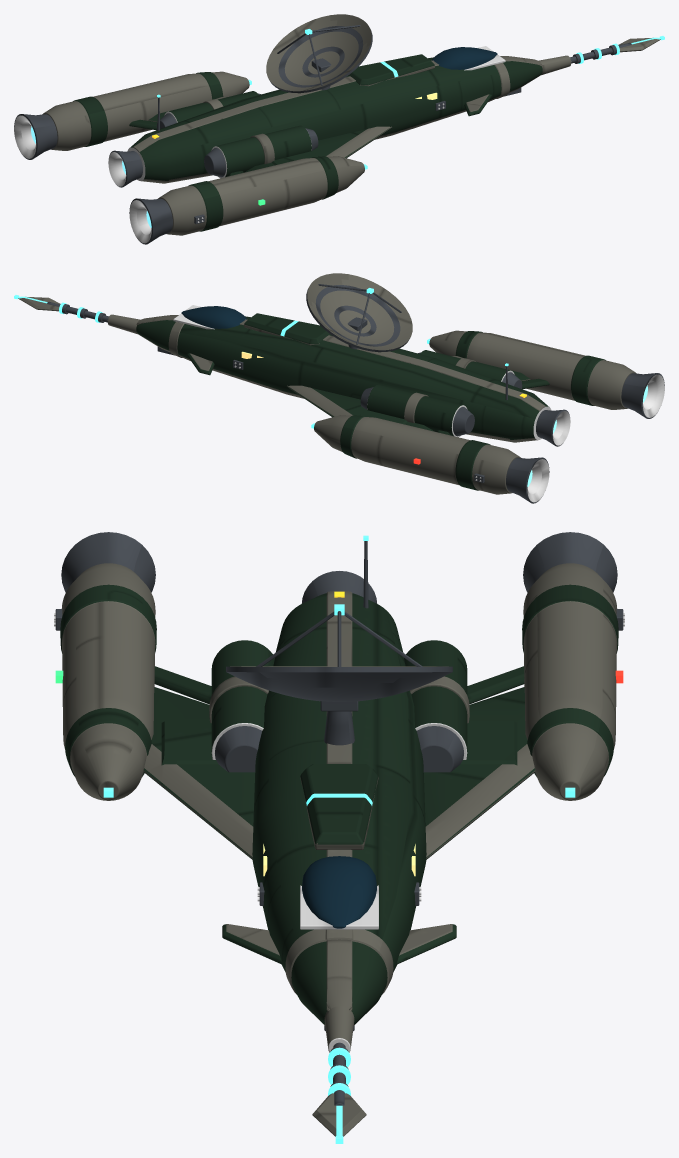
The model's file is ranger_production_v1.glb.
3 views of the same model, one above another, from view 1: azimuth 30°, elevation 25°; view 2: azimuth 150°, elevation 25°; view 3: azimuth 270°, elevation 25° (orthographic). The views are drawn at different scales.
Visible parts, largest first — view 1: LOD0_Hull, LOD0_Armor, LOD0_HOOK_SENSOR_DISH_Armor, LOD0_Mechanical, LOD0_MechanicalDark, LOD0_HOOK_SENSOR_DISH_Mechanical, LOD0_CANOPY, LOD0_HOOK_SECONDARY_TANK_Hull, LOD0_Lights_Cyan; view 2: LOD0_Hull, LOD0_Armor, LOD0_HOOK_SENSOR_DISH_Armor, LOD0_Mechanical, LOD0_HOOK_SECONDARY_TANK_Hull, LOD0_MechanicalDark, LOD0_HOOK_SENSOR_DISH_Mechanical, LOD0_CANOPY, LOD0_HOOK_SECONDARY_TANK_Mechanical, LOD0_Lights_Cyan; view 3: LOD0_Hull, LOD0_Armor, LOD0_Mechanical, LOD0_HOOK_SENSOR_DISH_Mechanical, LOD0_CANOPY, LOD0_HOOK_SECONDARY_TANK_Hull, LOD0_HOOK_SECONDARY_TANK_Mechanical, LOD0_MechanicalDark, LOD0_Lights_Cyan.
Part boxes in pixels (<box>): LOD0_Hull: <box>73,54,542,231</box>; LOD0_Armor: <box>42,38,660,235</box>; LOD0_HOOK_SENSOR_DISH_Armor: <box>266,14,371,91</box>; LOD0_Mechanical: <box>14,42,631,244</box>; LOD0_MechanicalDark: <box>14,46,571,243</box>; LOD0_HOOK_SENSOR_DISH_Mechanical: <box>269,25,372,93</box>; LOD0_CANOPY: <box>432,47,497,69</box>; LOD0_HOOK_SECONDARY_TANK_Hull: <box>169,91,258,122</box>; LOD0_Lights_Cyan: <box>157,36,664,169</box>; LOD0_Hull: <box>136,313,605,490</box>; LOD0_Armor: <box>18,297,636,494</box>; LOD0_HOOK_SENSOR_DISH_Armor: <box>307,273,412,350</box>; LOD0_Mechanical: <box>47,301,664,503</box>; LOD0_HOOK_SECONDARY_TANK_Hull: <box>367,384,462,436</box>; LOD0_MechanicalDark: <box>107,305,664,502</box>; LOD0_HOOK_SENSOR_DISH_Mechanical: <box>306,284,409,352</box>; LOD0_CANOPY: <box>181,306,246,328</box>; LOD0_HOOK_SECONDARY_TANK_Mechanical: <box>360,387,474,436</box>; LOD0_Lights_Cyan: <box>14,295,508,428</box>; LOD0_Hull: <box>60,584,618,1024</box>; LOD0_Armor: <box>61,563,617,1136</box>; LOD0_Mechanical: <box>55,532,623,1105</box>; LOD0_HOOK_SENSOR_DISH_Mechanical: <box>226,611,452,745</box>; LOD0_CANOPY: <box>302,856,376,928</box>; LOD0_HOOK_SECONDARY_TANK_Hull: <box>404,640,467,757</box>; LOD0_HOOK_SECONDARY_TANK_Mechanical: <box>417,726,463,772</box>; LOD0_MechanicalDark: <box>54,613,624,1052</box>; LOD0_Lights_Cyan: <box>103,535,575,1143</box>.
Size of what is drawn, in the model's own units: 17.73 by 3.39 by 7.54.
11 materials, 4 textured.
